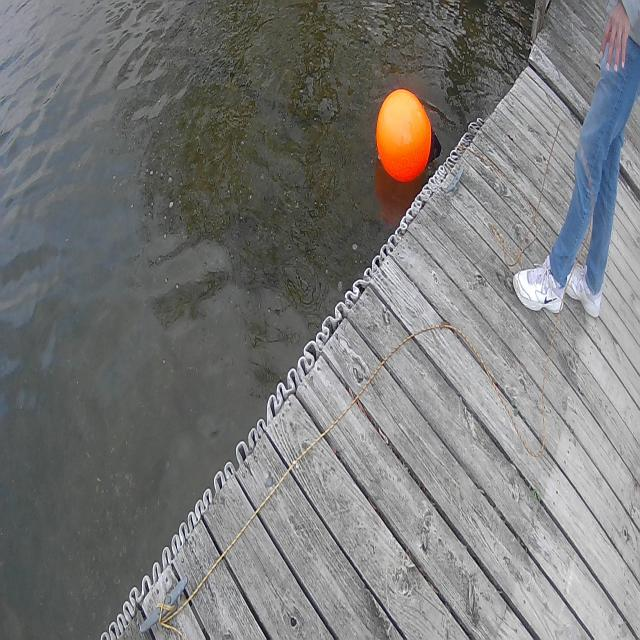Buoy: (371, 82, 438, 204)
